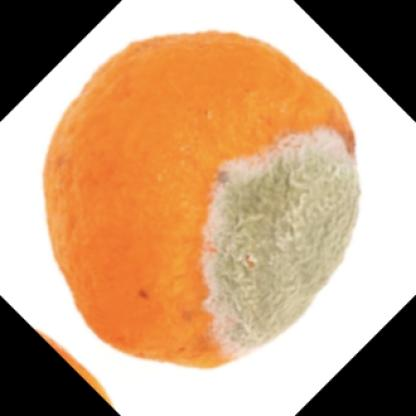rotten: (42, 32, 360, 365)
